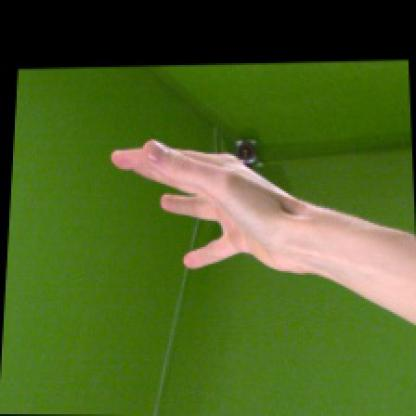Hand: (111, 139, 315, 273)
